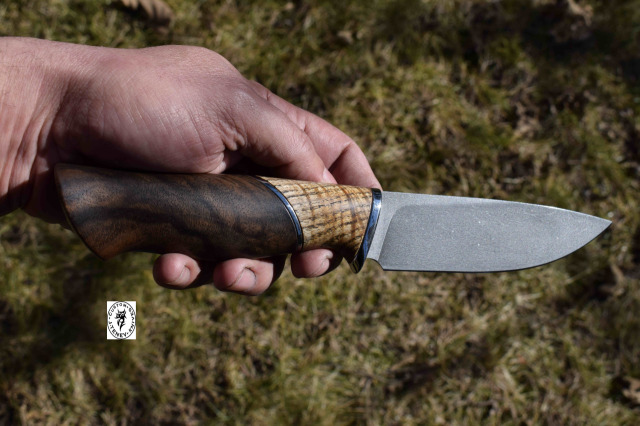knife: (149, 120, 622, 291)
